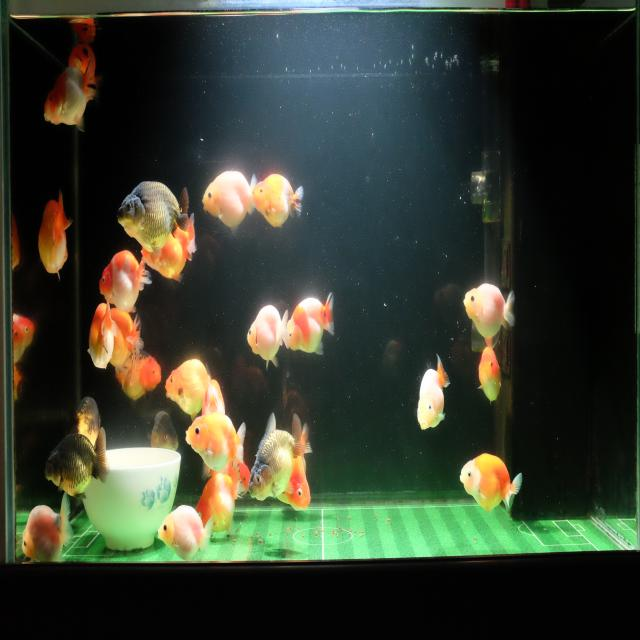Goldfish: (116, 180, 191, 264), (43, 424, 110, 508), (256, 411, 311, 511), (246, 421, 312, 504), (43, 56, 104, 140), (182, 405, 247, 476), (190, 458, 244, 539), (458, 449, 523, 515), (18, 492, 74, 564), (201, 167, 257, 239), (140, 213, 197, 282), (98, 248, 152, 316), (156, 501, 214, 562), (284, 288, 336, 356), (462, 280, 515, 346), (36, 192, 72, 283), (250, 170, 304, 230), (163, 355, 213, 419), (245, 302, 288, 373), (106, 300, 146, 372), (416, 352, 450, 433), (114, 347, 162, 402), (86, 301, 120, 373), (72, 394, 105, 450), (475, 344, 503, 408), (7, 307, 34, 372), (148, 408, 178, 454), (202, 371, 227, 417)
